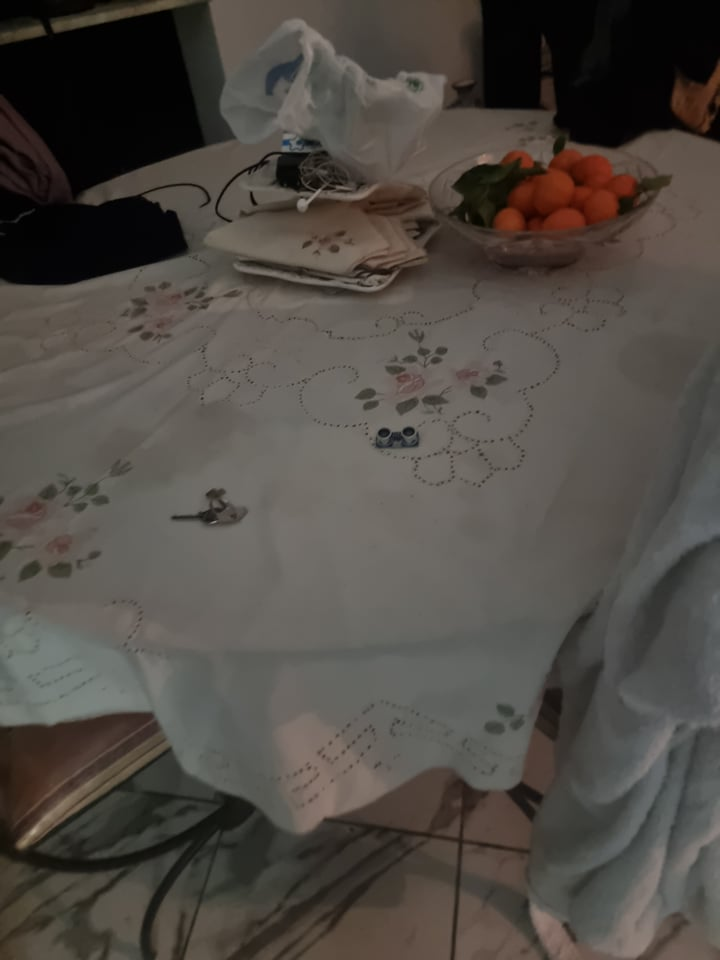SENSOR: (372, 427, 419, 450)
